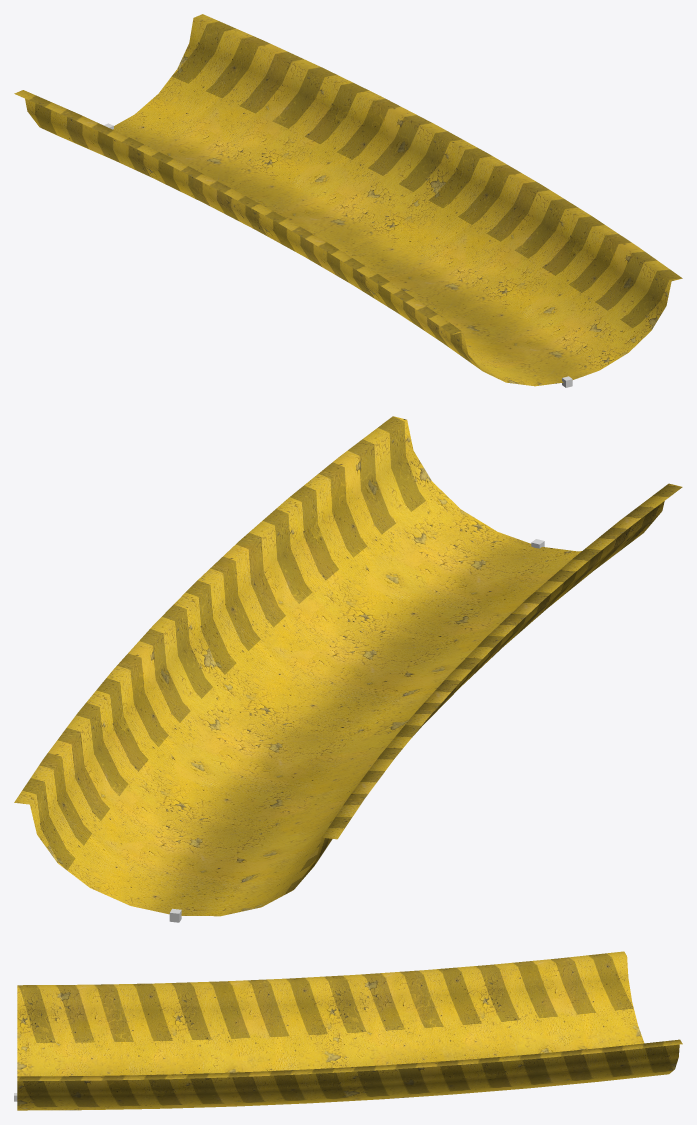
File: roadBend15.L.fbx
The picture shows the model from 3 angles, top to bottom: view 1: azimuth 30°, elevation 25°; view 2: azimuth 150°, elevation 25°; view 3: azimuth 270°, elevation 25°; orthographic projection. The views are drawn at different scales.
Parts seen in each view (by area): view 1: MESH roadBend15.L; view 2: MESH roadBend15.L; view 3: MESH roadBend15.L.
Part boxes in pixels (left/top/right/bottom): MESH roadBend15.L: left=14, top=14, right=682, bottom=386; MESH roadBend15.L: left=14, top=416, right=682, bottom=916; MESH roadBend15.L: left=17, top=951, right=682, bottom=1110.
Size of what is drawn, in the model's own units: 2290 by 553 by 4990.
